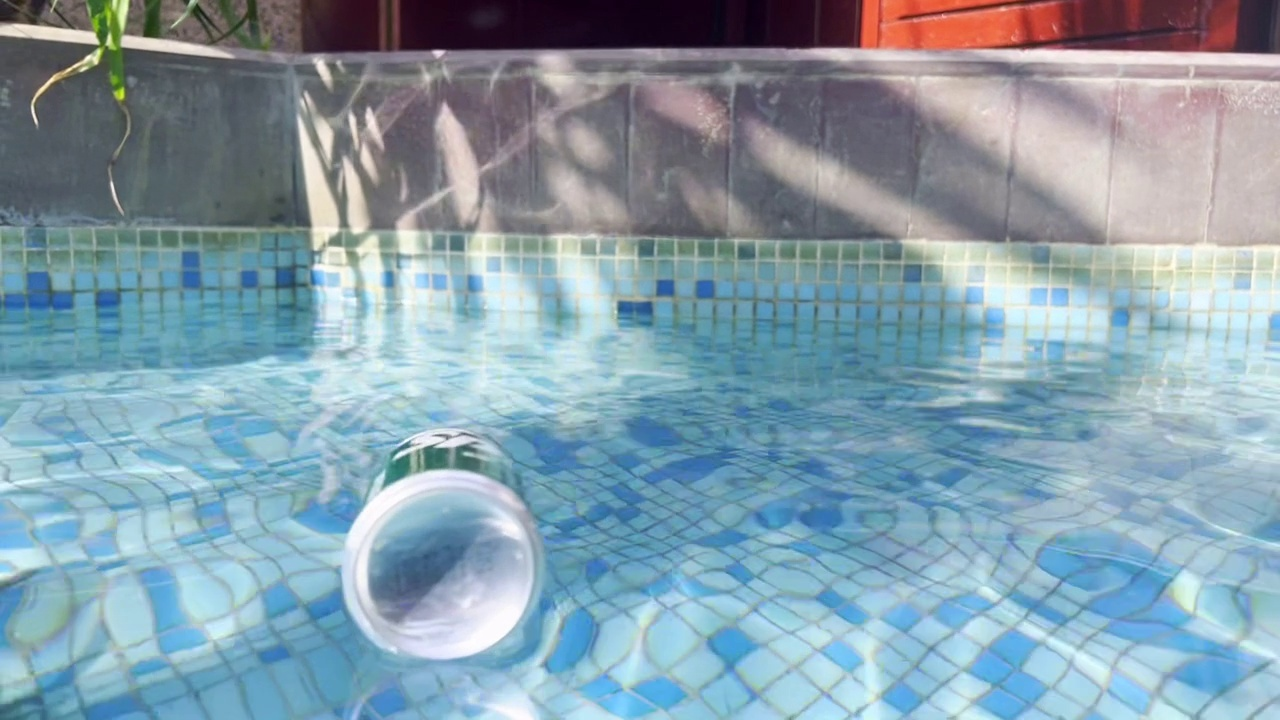debris: (315, 405, 560, 668)
